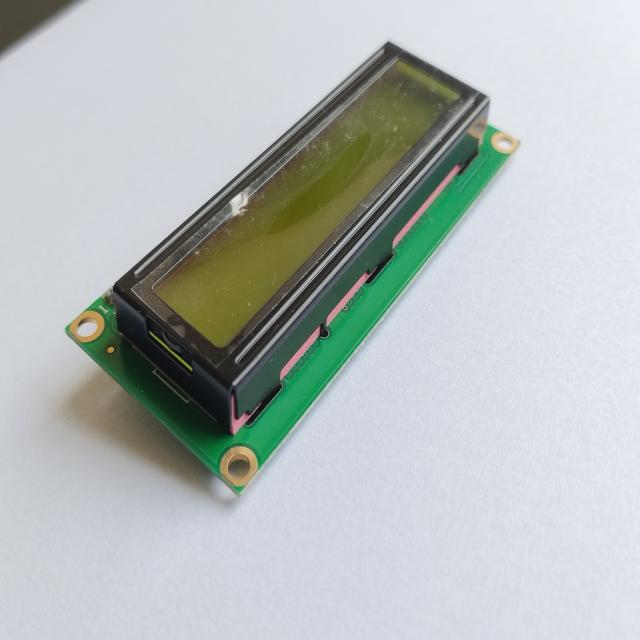lcd: (61, 36, 525, 518)
